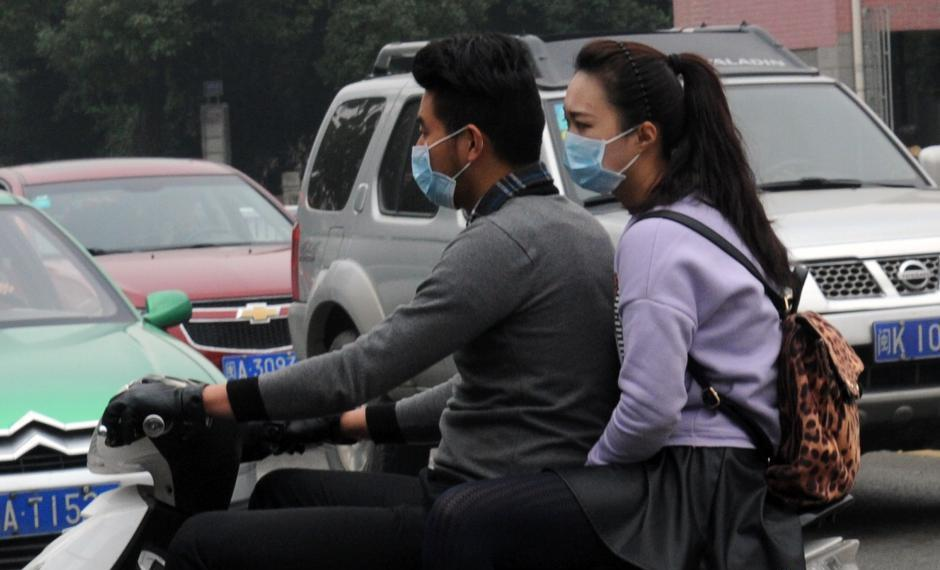OK: (556, 97, 650, 191), (411, 120, 492, 206)
